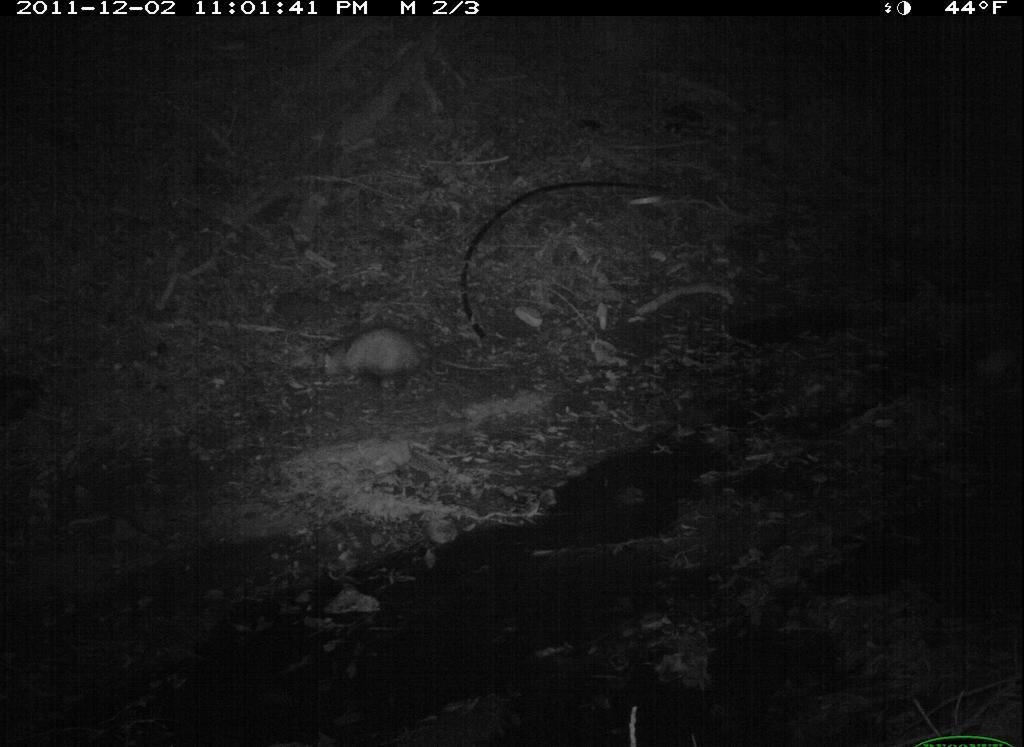opossum: (304, 306, 523, 408)
